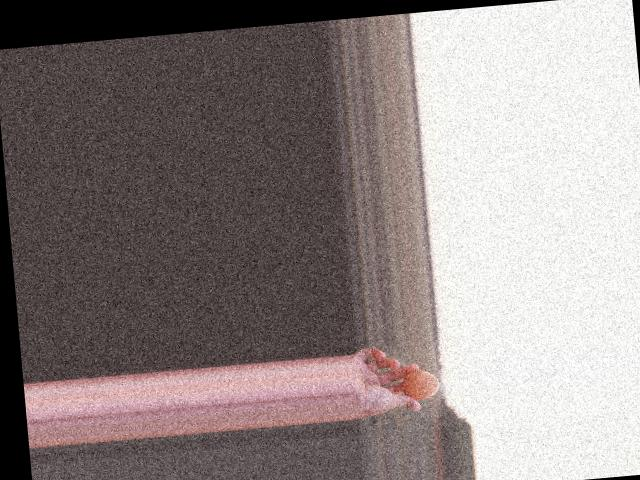egg: (401, 368, 440, 400)
